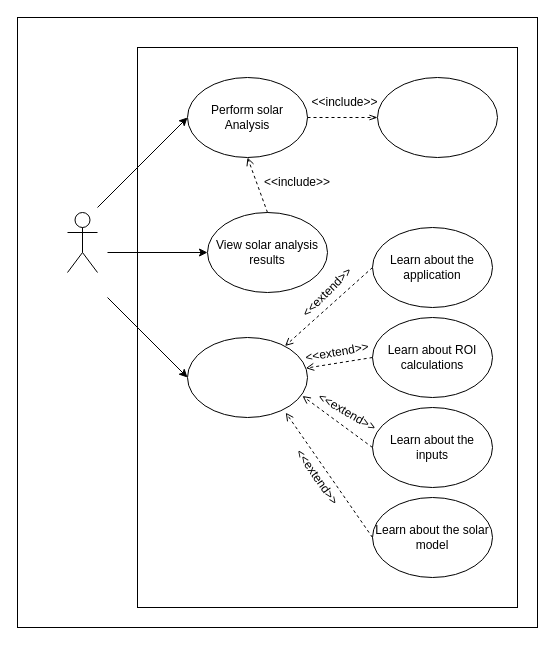
This 555x645 diagram has some shape labels left out. The centre of each missing label's shape, as x and y in pixels:
"Fill out input form" goes at point (437, 117).
"View about page" goes at point (247, 377).
"Website User" goes at point (82, 242).
